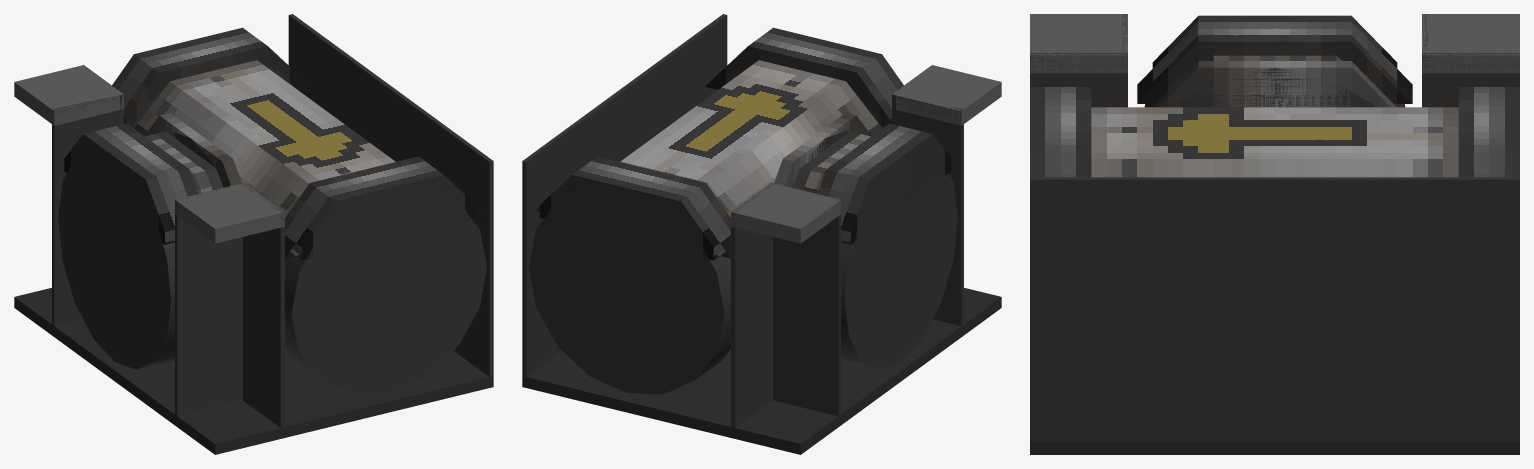
The model's file is CMU3DDisposalJunction.glb.
The picture shows the model from 3 angles, left to right: view 1: azimuth 30°, elevation 25°; view 2: azimuth 150°, elevation 25°; view 3: azimuth 270°, elevation 25°; orthographic projection. The views are drawn at different scales.
Parts seen in each view (by area): view 1: south installed collar round core, inferred service channel side wall (×2), west installed collar round core, inferred finite service channel bottom, inferred branch channel wall (×2), main barrel and south arrow source crown 1, inferred flush metal service surround (×2), south installed collar source crown 1, main barrel and south arrow source crown 0, west installed collar source crown 1, north installed collar source crown 1, south installed collar source crown 0 (+8 smaller); view 2: north installed collar round core, inferred service channel side wall (×2), west installed collar round core, inferred finite service channel bottom, inferred branch channel wall (×2), main barrel and south arrow source crown 1, inferred flush metal service surround (×2), west installed collar source crown 1, main barrel and south arrow source crown 0, north installed collar source crown 1, south installed collar source crown 1, north installed collar source crown 0 (+9 smaller); view 3: inferred service channel side wall (×3), main barrel and south arrow source crown 1, inferred flush metal service surround (×2), west branch weld source crown 1, main barrel and south arrow source crown 2, inferred finite service channel bottom, west installed collar source crown 1, north installed collar source crown 1, south installed collar source crown 1, west branch weld round core, west installed collar source crown 0, west installed collar source crown 2 (+6 smaller).
Part boxes in pixels (bbox=[...]): south installed collar round core: bbox=[285, 186, 487, 394]; inferred service channel side wall (×2): bbox=[242, 14, 493, 427]; west installed collar round core: bbox=[58, 149, 174, 369]; inferred finite service channel bottom: bbox=[14, 288, 493, 454]; inferred branch channel wall (×2): bbox=[52, 95, 242, 416]; main barrel and south arrow source crown 1: bbox=[170, 60, 395, 183]; inferred flush metal service surround (×2): bbox=[14, 65, 284, 243]; south installed collar source crown 1: bbox=[310, 156, 443, 251]; main barrel and south arrow source crown 0: bbox=[134, 81, 309, 217]; west installed collar source crown 1: bbox=[83, 123, 188, 230]; north installed collar source crown 1: bbox=[134, 27, 267, 94]; south installed collar source crown 0: bbox=[285, 183, 334, 260]; north installed collar round core: bbox=[528, 186, 730, 394]; inferred service channel side wall (×2): bbox=[522, 14, 774, 427]; west installed collar round core: bbox=[841, 157, 957, 369]; inferred finite service channel bottom: bbox=[522, 288, 1001, 454]; inferred branch channel wall (×2): bbox=[773, 95, 963, 416]; main barrel and south arrow source crown 1: bbox=[620, 60, 845, 183]; inferred flush metal service surround (×2): bbox=[731, 65, 1001, 243]; west installed collar source crown 1: bbox=[827, 123, 932, 230]; main barrel and south arrow source crown 0: bbox=[706, 81, 881, 217]; north installed collar source crown 1: bbox=[572, 156, 705, 251]; south installed collar source crown 1: bbox=[748, 27, 881, 94]; north installed collar source crown 0: bbox=[681, 183, 730, 260]; inferred service channel side wall (×3): bbox=[1030, 53, 1519, 441]; main barrel and south arrow source crown 1: bbox=[1091, 107, 1458, 158]; inferred flush metal service surround (×2): bbox=[1030, 14, 1519, 73]; west branch weld source crown 1: bbox=[1198, 61, 1351, 107]; main barrel and south arrow source crown 2: bbox=[1091, 159, 1458, 177]; inferred finite service channel bottom: bbox=[1030, 441, 1519, 454]; west installed collar source crown 1: bbox=[1198, 15, 1351, 60]; north installed collar source crown 1: bbox=[1458, 87, 1519, 151]; south installed collar source crown 1: bbox=[1030, 87, 1091, 151]; west branch weld round core: bbox=[1175, 67, 1374, 107]; west installed collar source crown 0: bbox=[1351, 16, 1412, 103]; west installed collar source crown 2: bbox=[1137, 16, 1198, 103].
Size of the model in its own units: 0.8 by 0.62 by 1.
18 materials, 15 textured.
